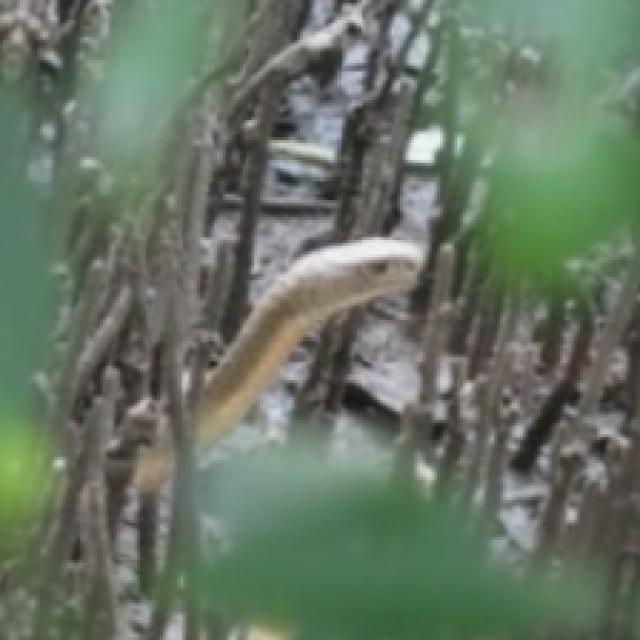king cobra: (194, 237, 420, 451)
